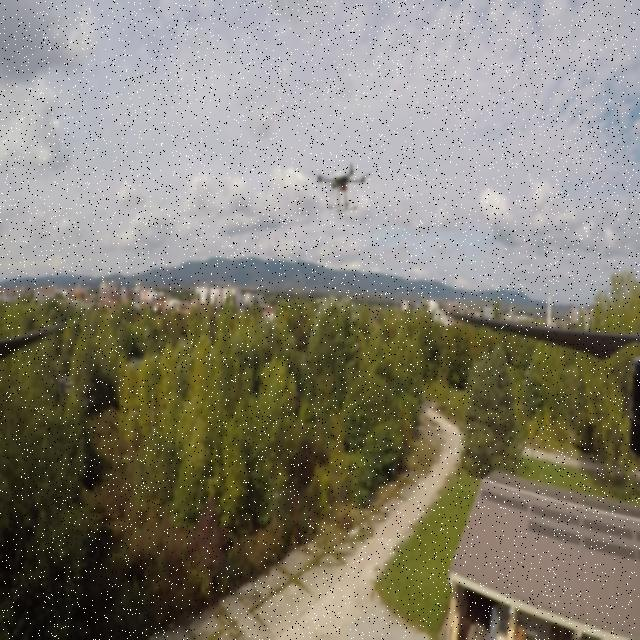UAV: (307, 157, 375, 218)
